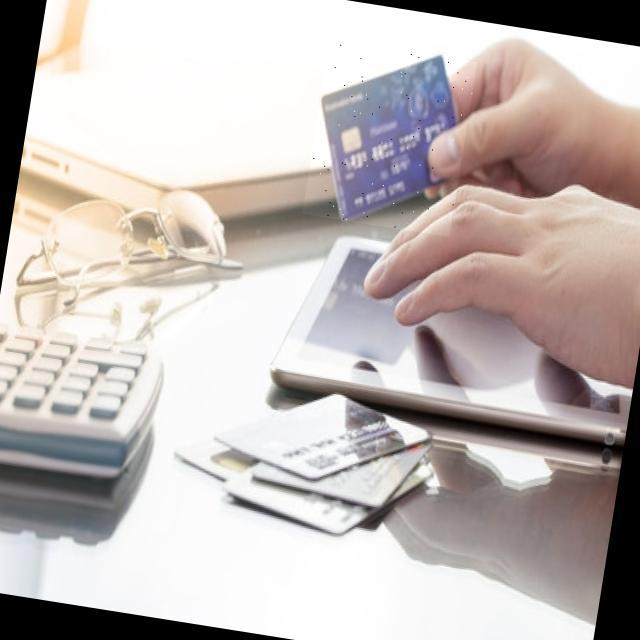payment_card: (319, 53, 459, 222)
